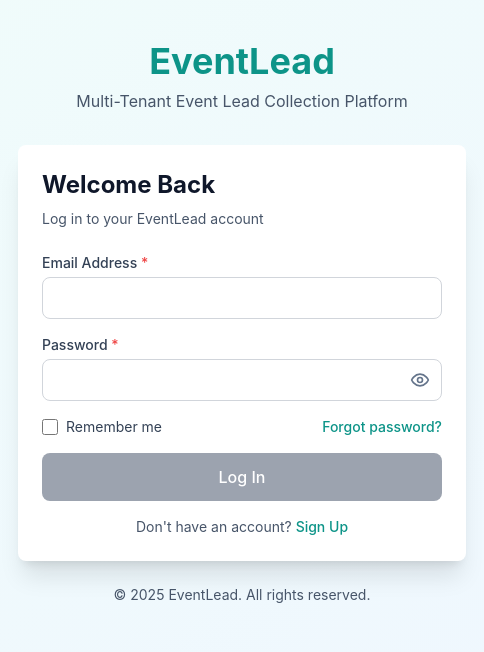
LoginForm Component › Form Submission › should show error message for unverified email
The width and height of the screenshot is (484, 652).
In the field labelled "Email Address *": (242, 298) [42, 277, 442, 319], type "unverified@example.com"
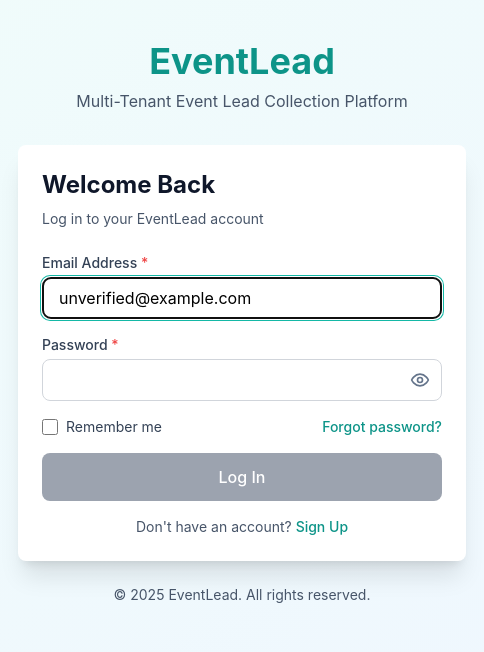
In the password field labelled "Password *": (242, 380) [42, 359, 442, 401], type "Password123!"
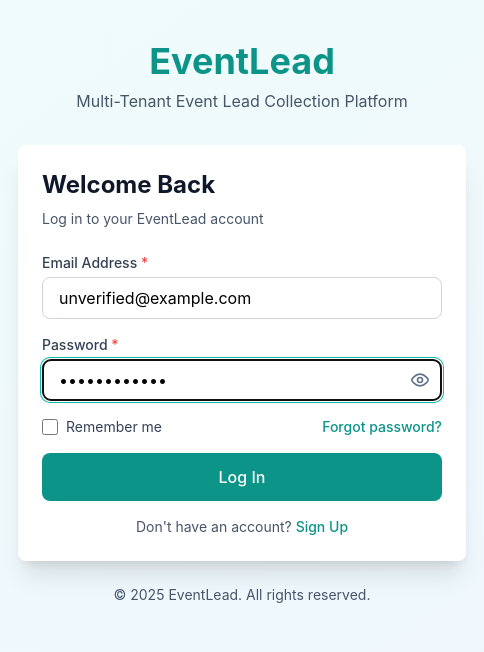
Click the button "Log In": click(242, 477) [42, 453, 442, 501]
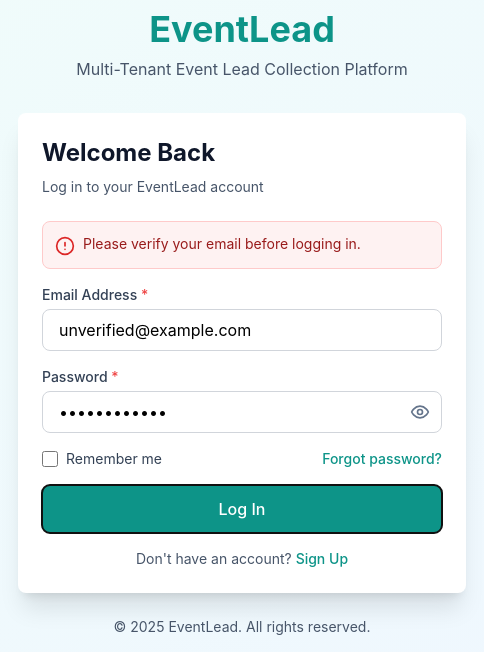
Expected: the text "Please verify your email before logging in." is shown, [83, 234, 361, 254]
